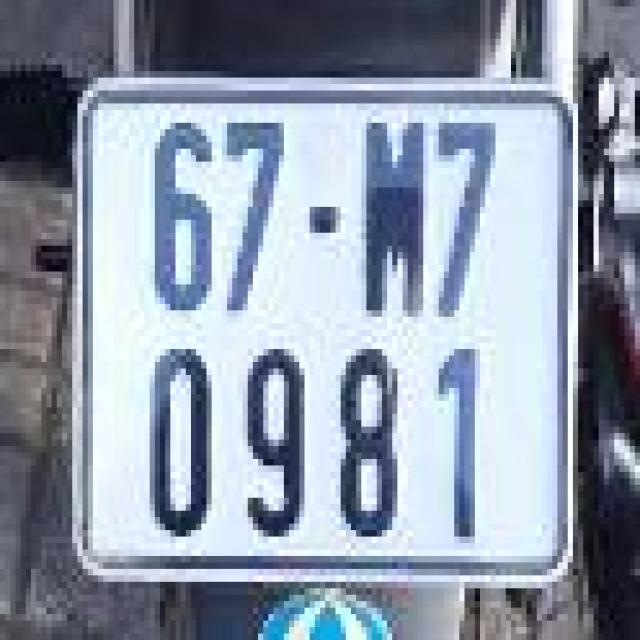0: (137, 333, 219, 546)
1: (428, 333, 496, 553)
6: (144, 110, 217, 323)
7: (434, 106, 501, 326), (214, 113, 287, 314)
8: (328, 326, 415, 546)
9: (230, 340, 312, 560)
M: (354, 106, 431, 326)
